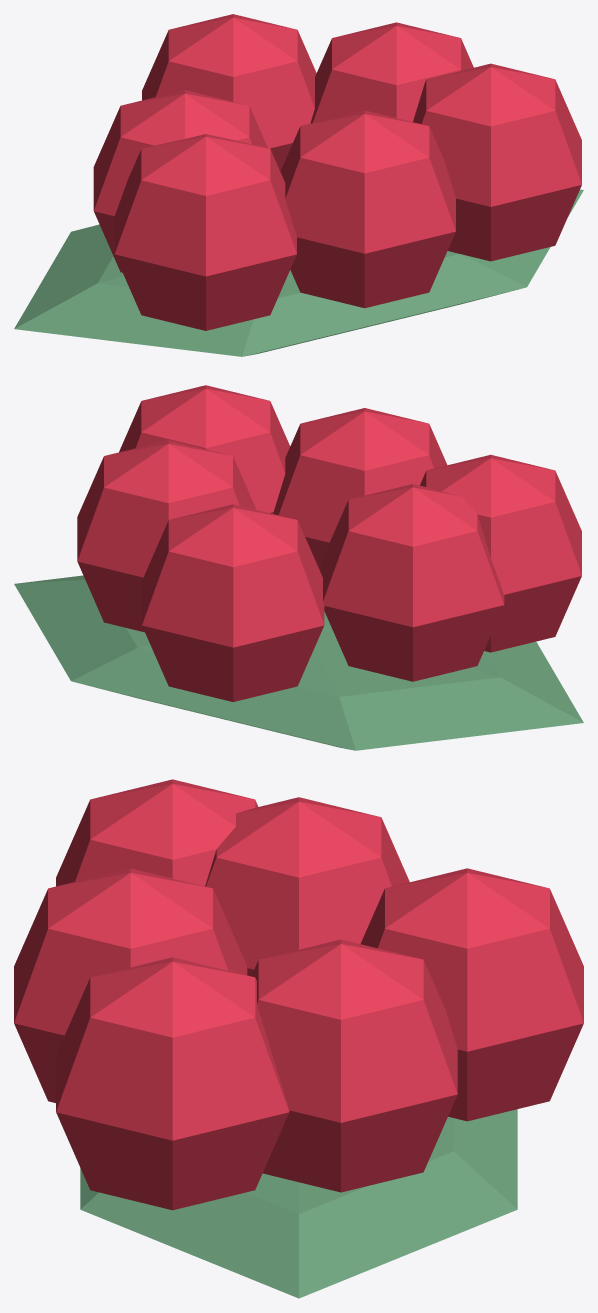
File: item_berries.glb
The picture shows the model from 3 angles, top to bottom: view 1: azimuth 30°, elevation 25°; view 2: azimuth 150°, elevation 25°; view 3: azimuth 270°, elevation 25°; orthographic projection. The views are drawn at different scales.
Parts seen in each view (by area): view 1: b4, b2, b3, leaf, b5, b1, b0; view 2: leaf, b5, b0, b1, b4, b2, b3; view 3: b3, b1, b5, leaf, b2, b0, b4.
Part boxes in pixels (<box>): b4: <box>114,134,296,330</box>; b2: <box>280,110,455,308</box>; b3: <box>413,63,581,261</box>; leaf: <box>14,189,583,356</box>; b5: <box>142,14,316,171</box>; b1: <box>310,22,473,123</box>; b0: <box>93,90,267,272</box>; leaf: <box>14,575,583,750</box>; b5: <box>142,504,324,701</box>; b0: <box>321,484,504,681</box>; b1: <box>77,440,256,632</box>; b4: <box>420,454,581,652</box>; b2: <box>273,408,447,573</box>; b3: <box>119,385,290,513</box>; b3: <box>56,957,289,1210</box>; b1: <box>251,939,457,1192</box>; b5: <box>360,868,583,1121</box>; leaf: <box>80,1109,517,1298</box>; b2: <box>14,868,247,1102</box>; b0: <box>205,797,409,976</box>; b4: <box>56,779,258,886</box>.
Bounding box in the file's own units: 0.2 × 0.077 × 0.1354.
